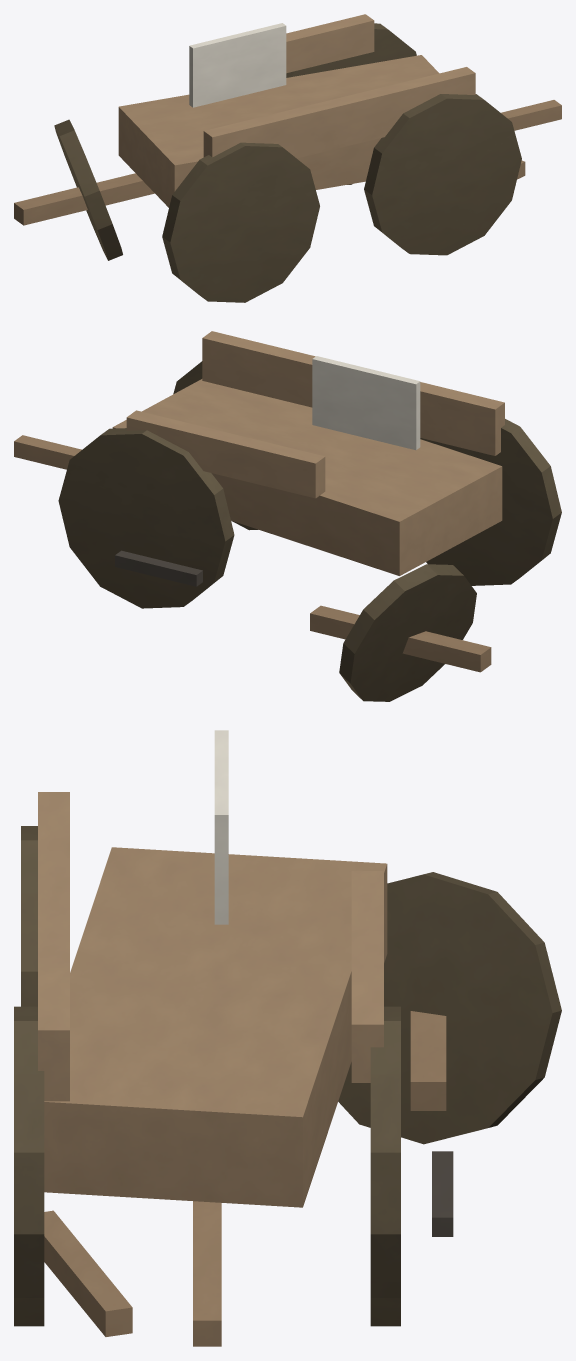
File: wagon_wreck_hero_v2.glb
3 renders of one model, top to bottom at view 1: azimuth 30°, elevation 25°; view 2: azimuth 150°, elevation 25°; view 3: azimuth 270°, elevation 25°, orthographic. The views are drawn at different scales.
Parts seen in each view (by area): view 1: wagon_wreck_hero_v2; view 2: wagon_wreck_hero_v2; view 3: wagon_wreck_hero_v2.
Part boxes in pixels (x1=…): wagon_wreck_hero_v2: x1=14, y1=14, x2=561, y2=302; wagon_wreck_hero_v2: x1=14, y1=331, x2=561, y2=701; wagon_wreck_hero_v2: x1=14, y1=730, x2=561, y2=1346.
Bounding box in the file's own units: 2.88 × 1.36 × 1.54.
Materials: 1 (1 with a texture image).
